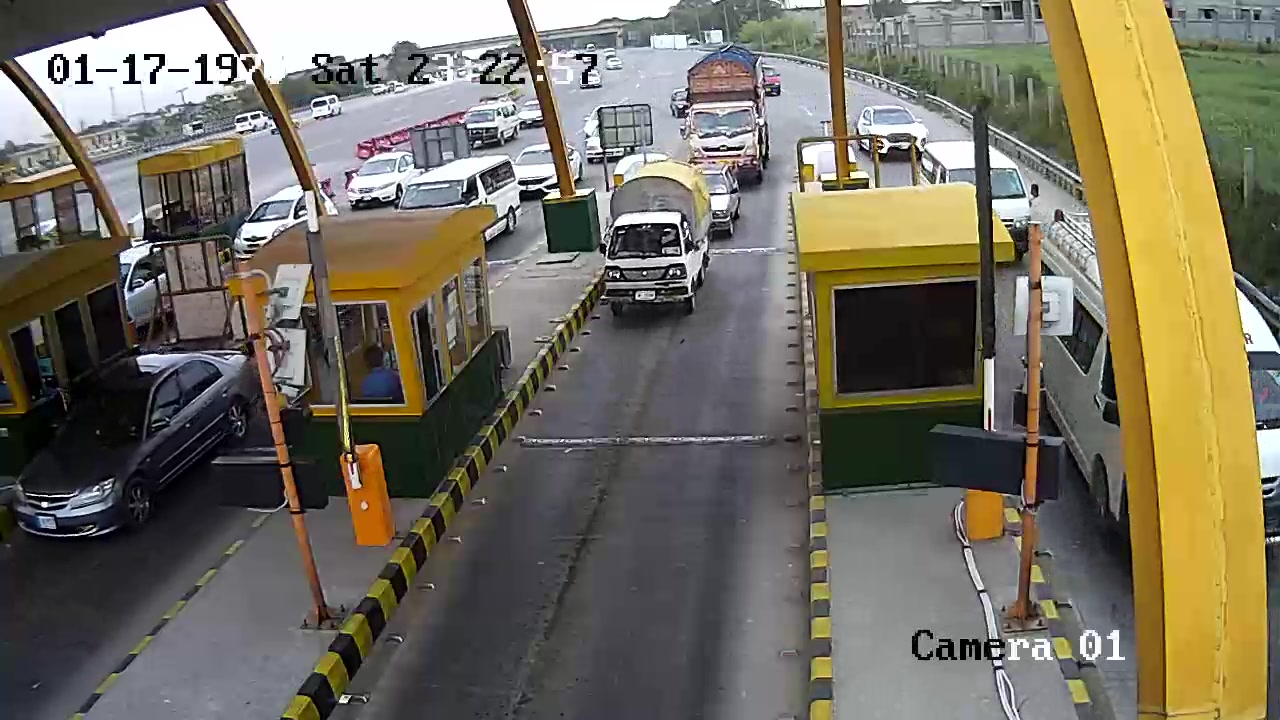F1: (587, 162, 720, 329)
